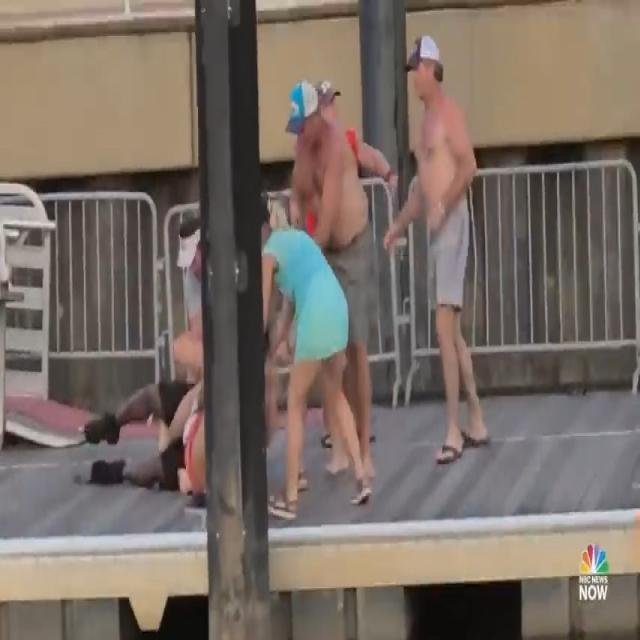fight: (86, 184, 373, 522)
non-fight: (379, 34, 492, 475)
